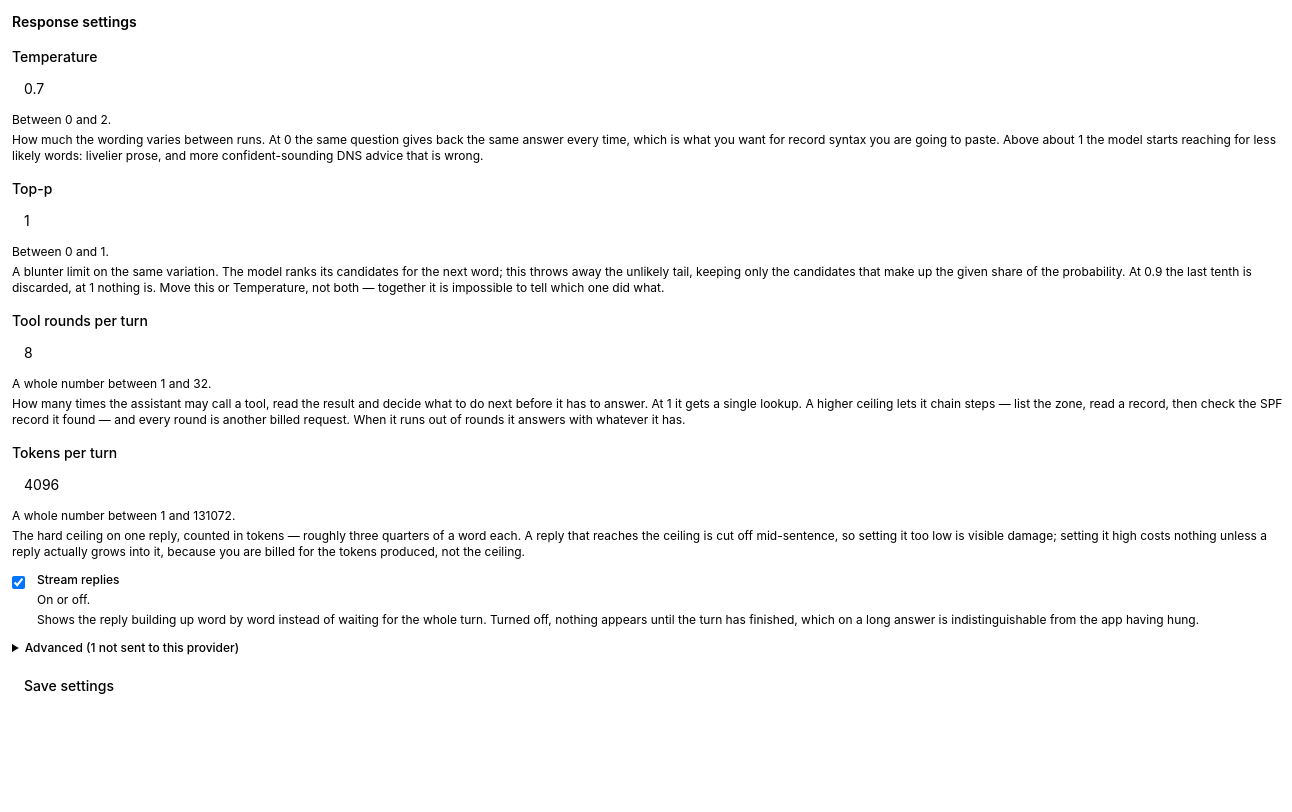
Test case: a refused save shows the backend's own message
Click the button "Save settings": (69, 686) [12,668,126,704]
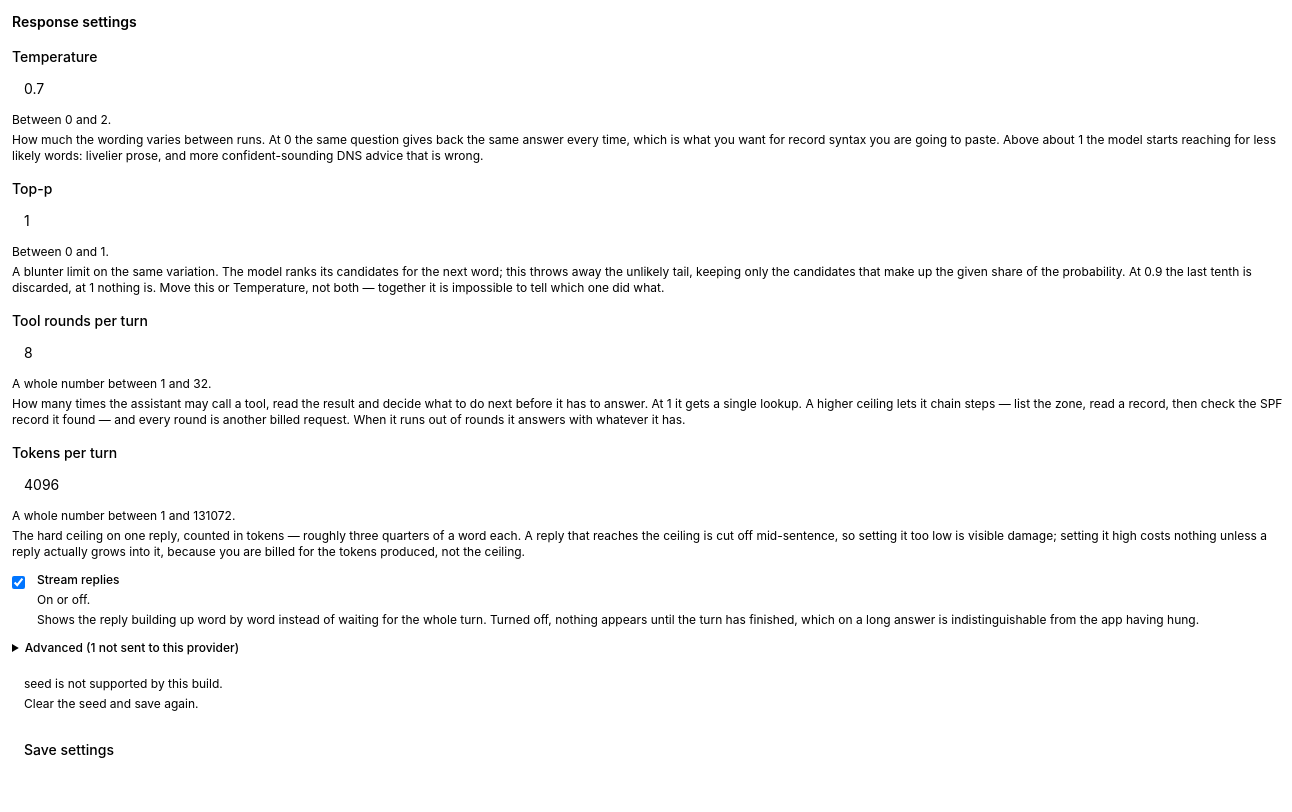
Now the text "seed is not supported by this build." is shown, box [24,676,223,691]
Now the text "Clear the seed and save again." is shown, box [24,696,198,711]
